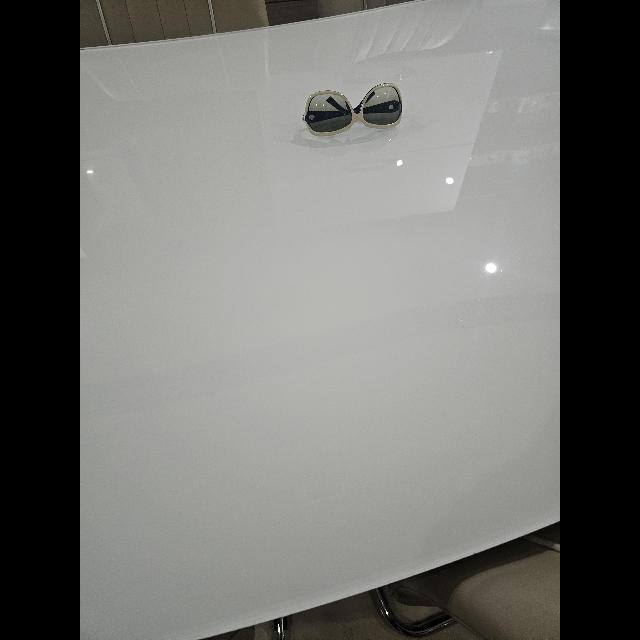Sunglasses: (302, 84, 402, 136)
